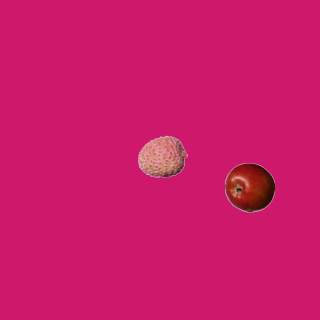Apple Braeburn: (224, 162, 274, 212)
Lychee: (137, 131, 187, 181)
